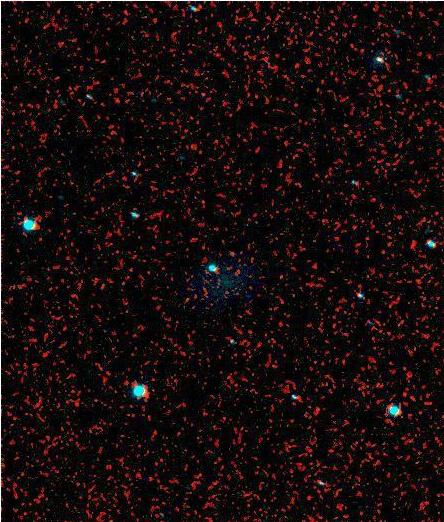star: (174, 284, 204, 314)
